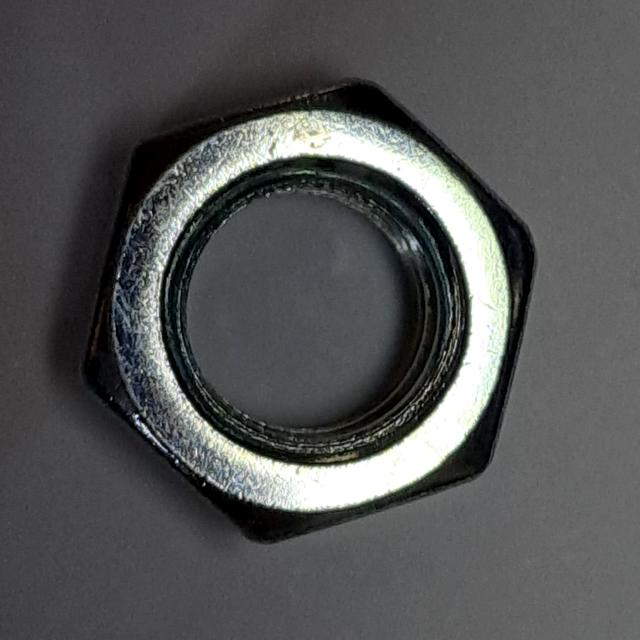Excellent: (66, 68, 550, 559)
